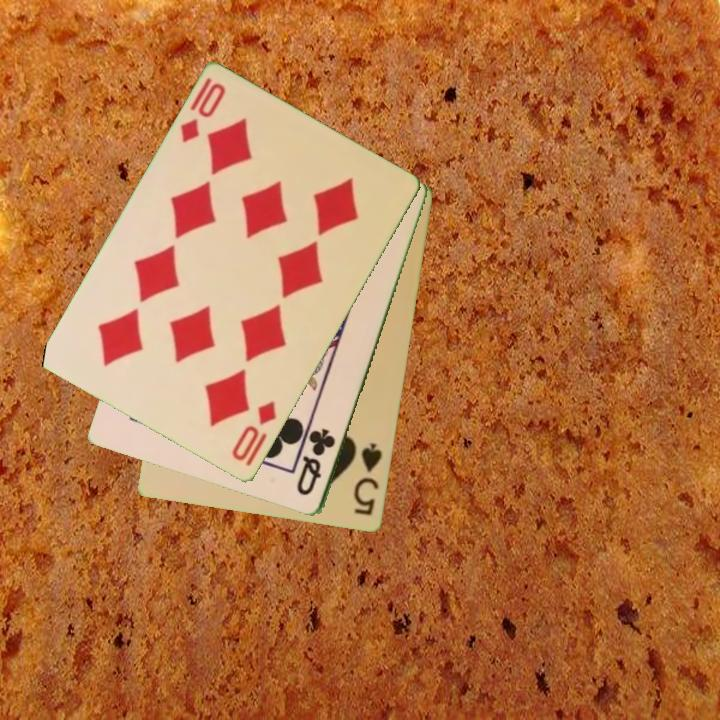10d: (176, 79, 229, 147), (228, 397, 280, 465)
5s: (350, 440, 386, 519)
Qc: (293, 424, 339, 499)
